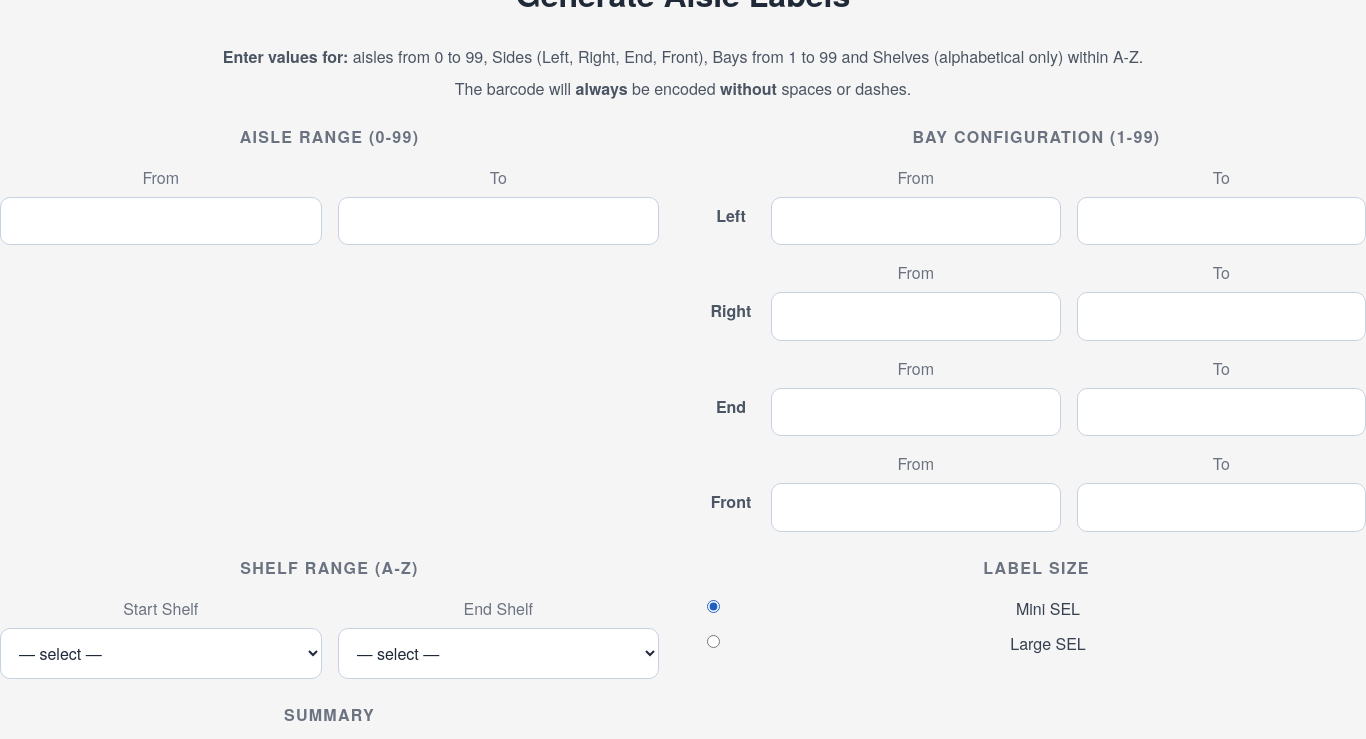
Accessibility checks › has no axe violations in AisleLabelForm generated state
Type "1" into the field labelled "From" below "Aisle Range (0-99)".
click(161, 221); type("1")  # box [0,197,322,245]
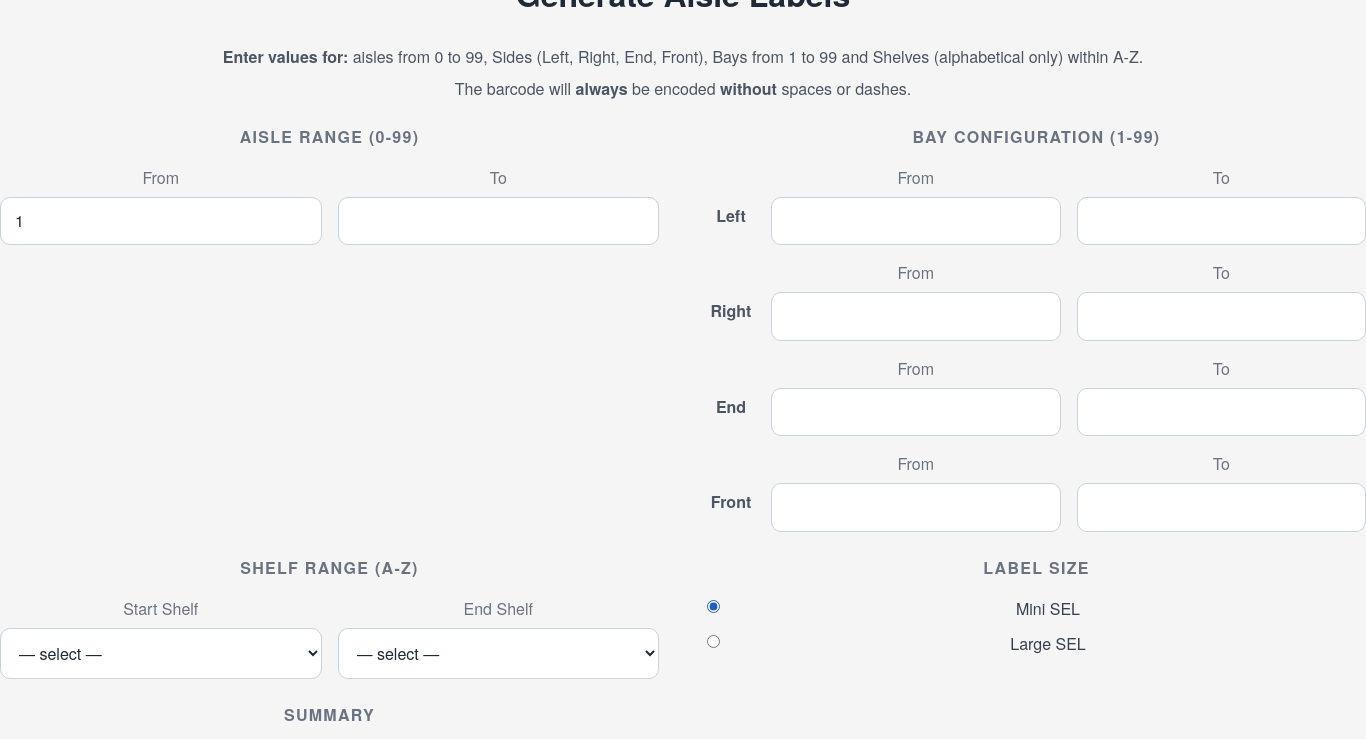
Type "1" into the field labelled "To" below "Aisle Range (0-99)".
click(498, 221); type("1")  # box [338,197,659,245]
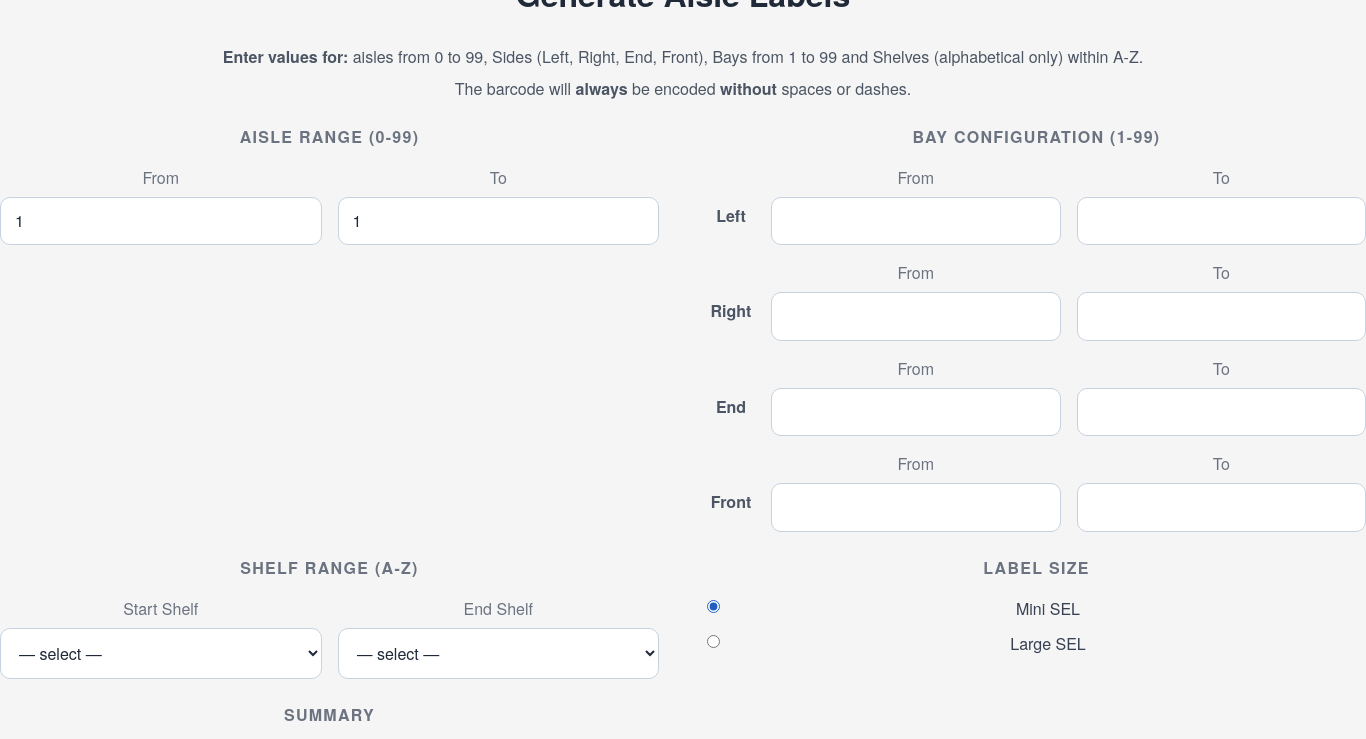
Type "1" into the 2nd field labelled "From".
click(916, 221); type("1")  # box [771,197,1060,245]
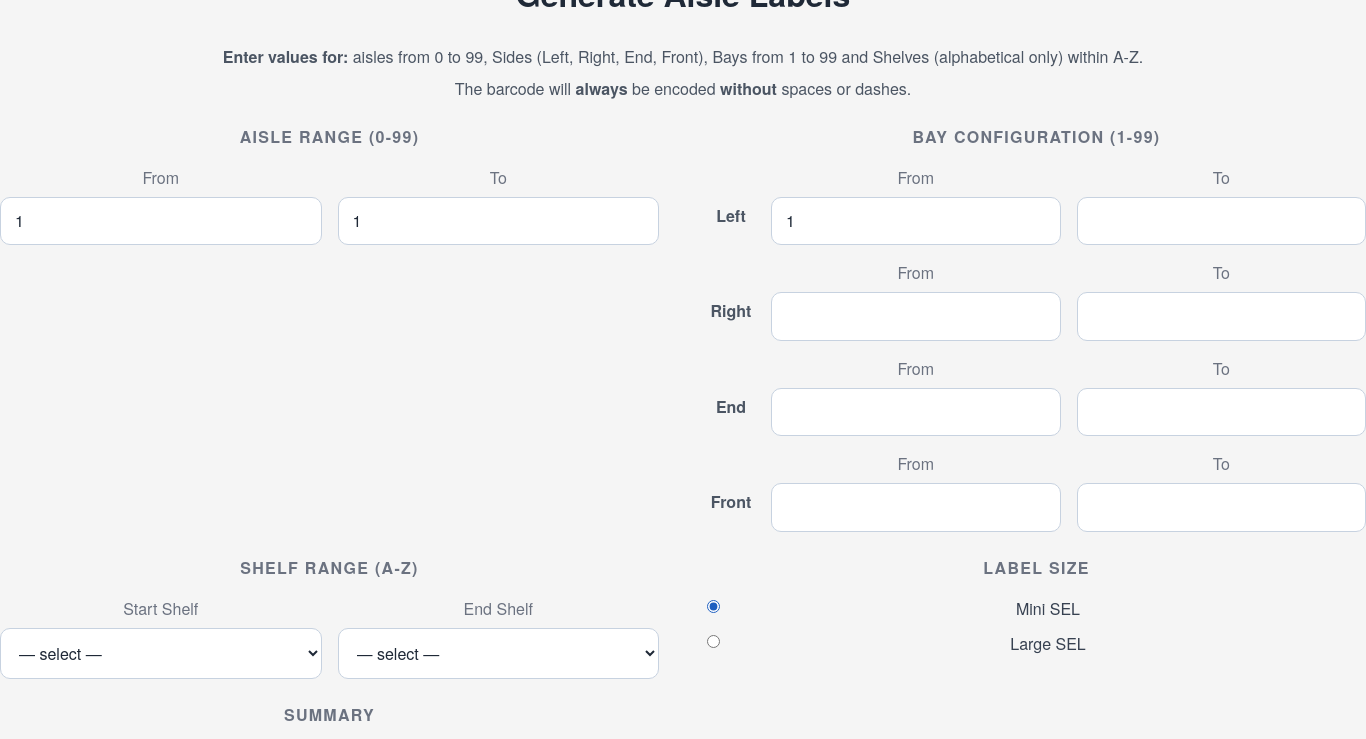
Type "1" into the 2nd field labelled "To".
click(1221, 221); type("1")  # box [1076,197,1365,245]
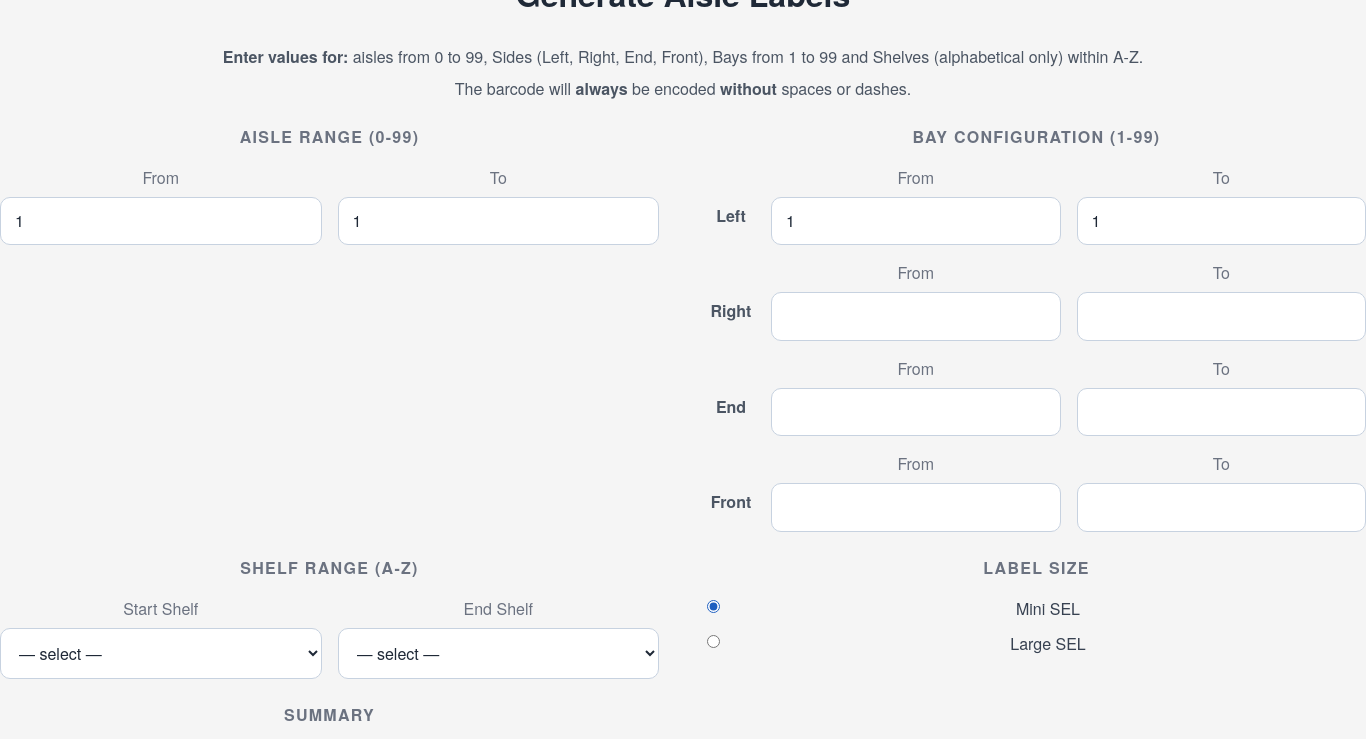
Select "A" in the dropdown labelled "End Shelf" at coordinates (498, 653), box [338,628,659,679]
(page scrolled)
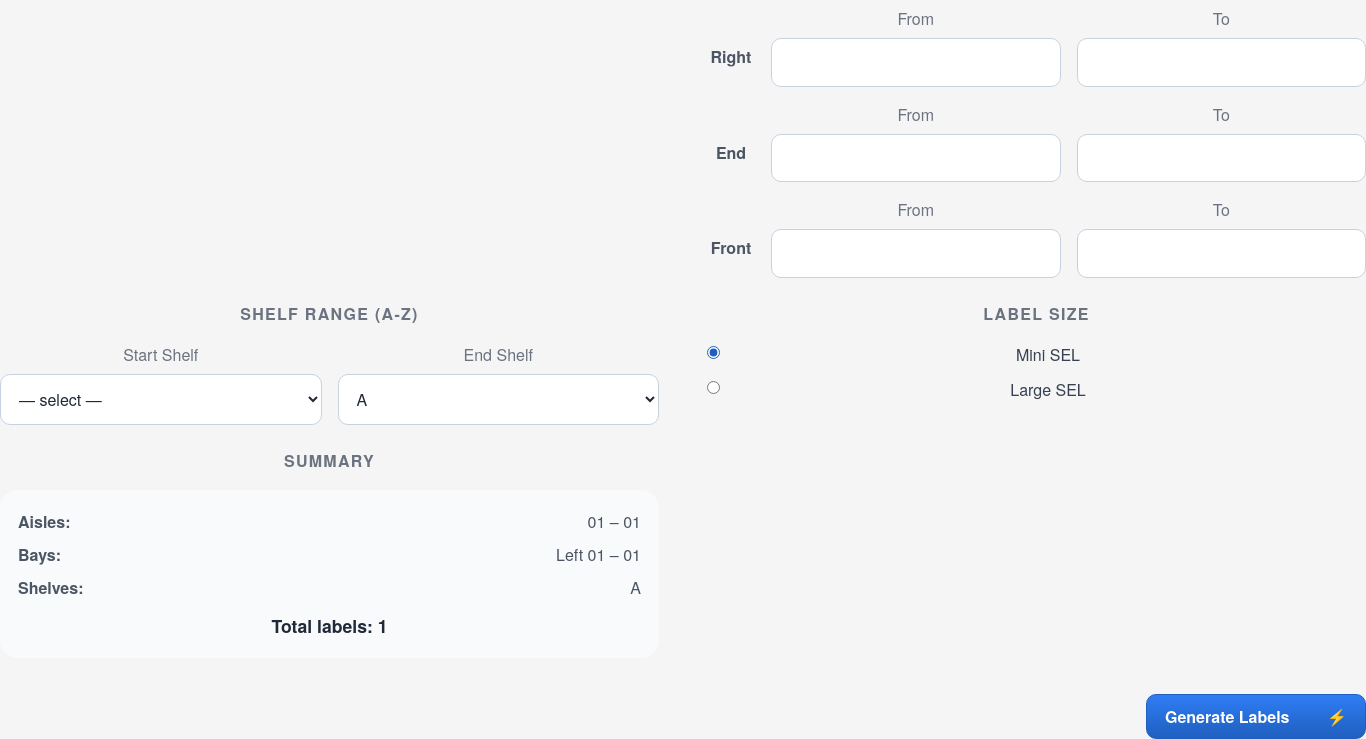
Click the button "Generate Labels ⚡".
click(1256, 717)  # box [1146,694,1365,738]
(page scrolled)
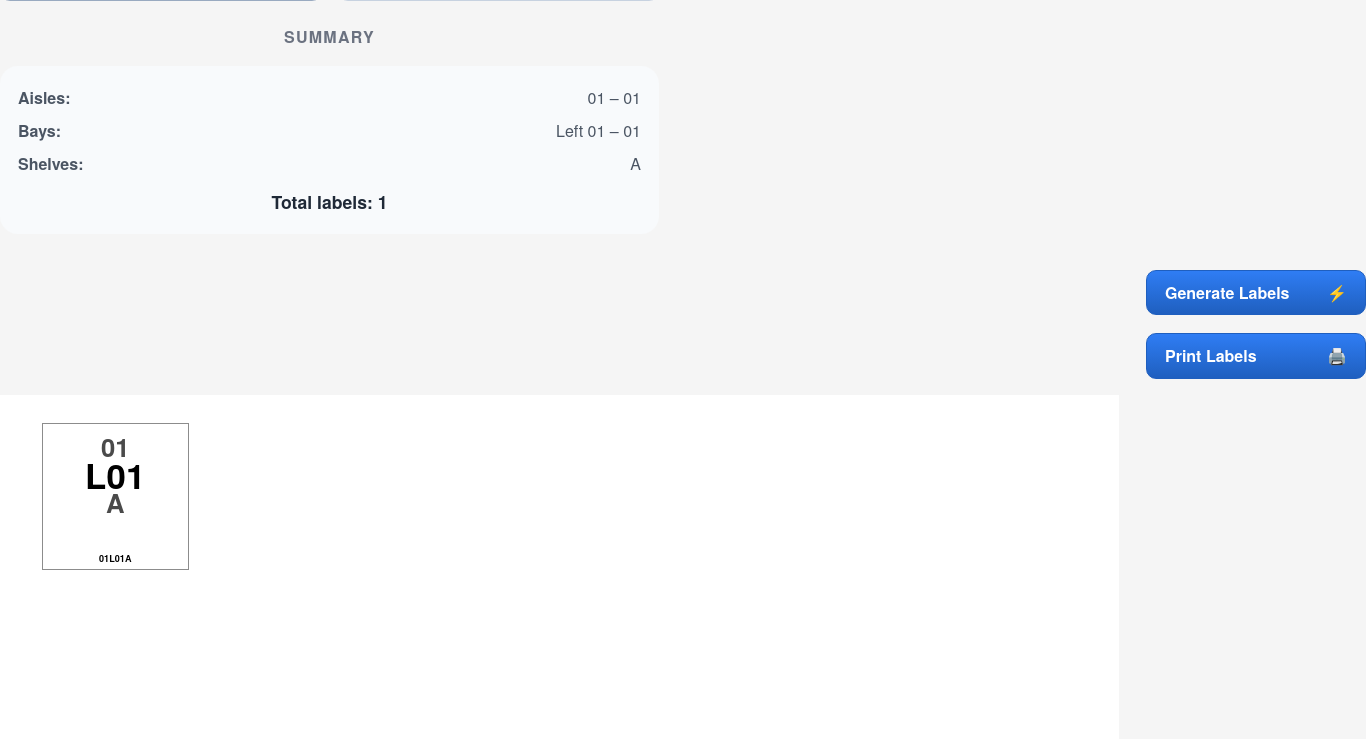
Result: the button "Print Labels 🖨️" is shown at [1146,333,1365,378]
